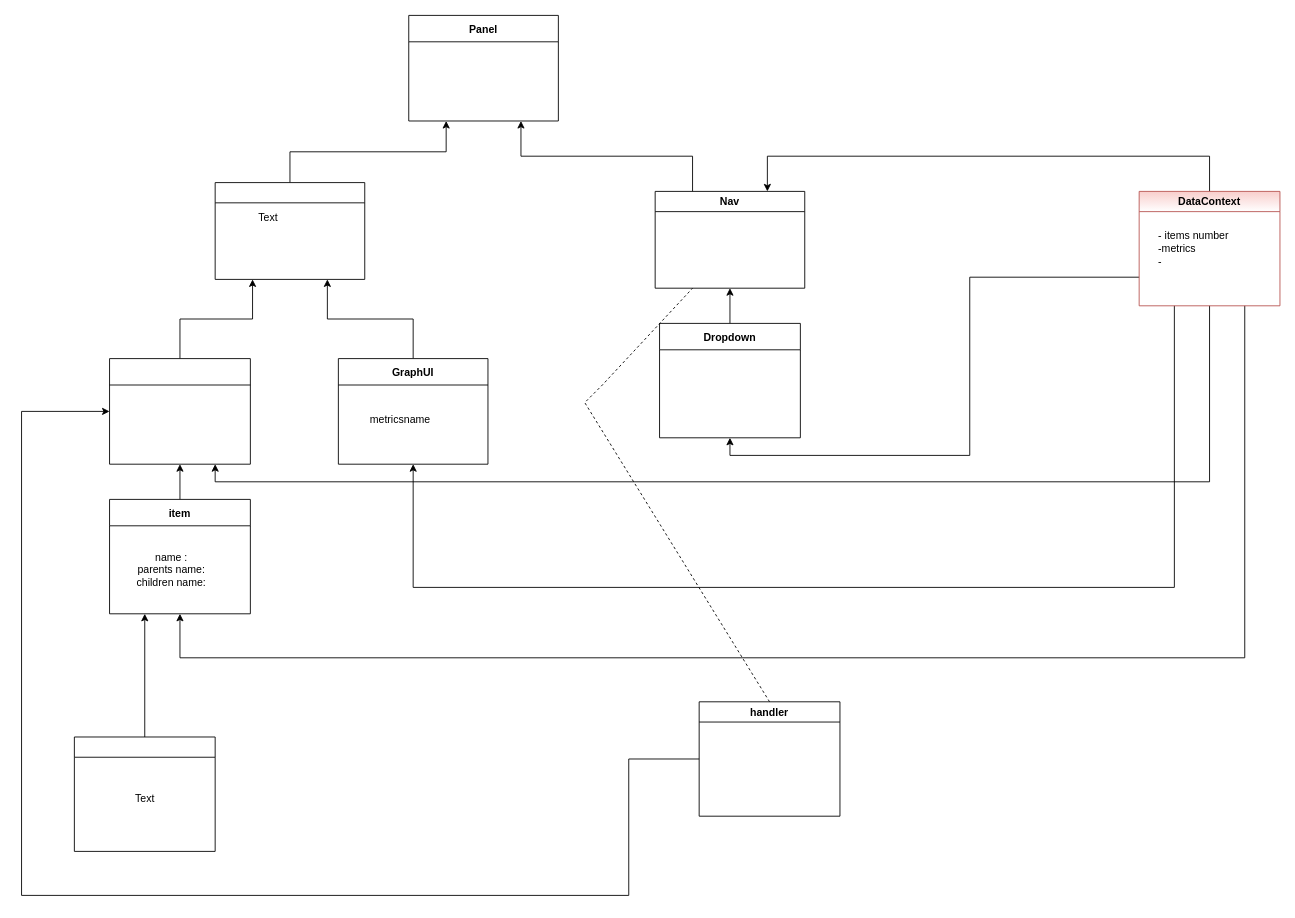
The diagram is 1295 pixels wide and 918 high, and some of its shapes have lost their labels. Here are the shapes that lost their labels. From the top down, the box of each, then its label:
(214, 182, 365, 279): mainPanel
(109, 358, 250, 464): canvas
(73, 736, 215, 851): drillDown
